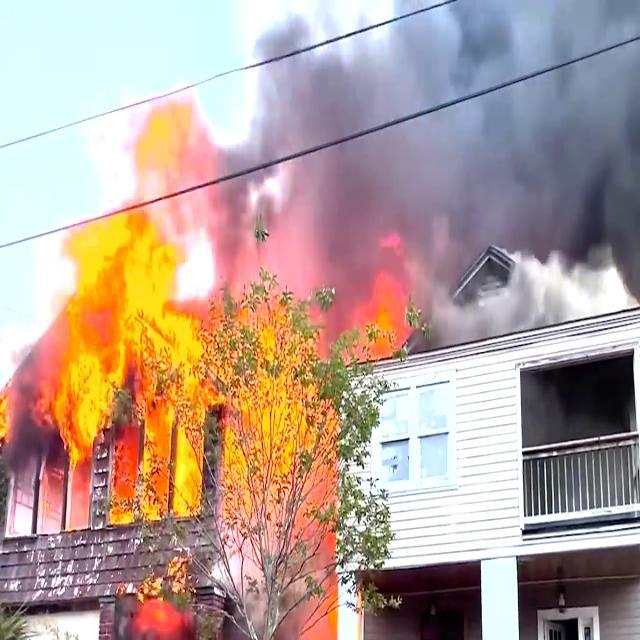Fire: (54, 186, 212, 504), (223, 309, 335, 640)
Smoke: (230, 0, 640, 291)
